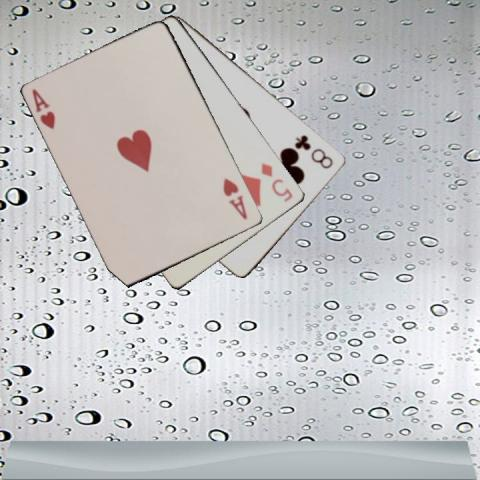5d: (258, 160, 295, 204)
8c: (293, 131, 335, 171)
Ah: (220, 175, 249, 221), (30, 86, 57, 131)
